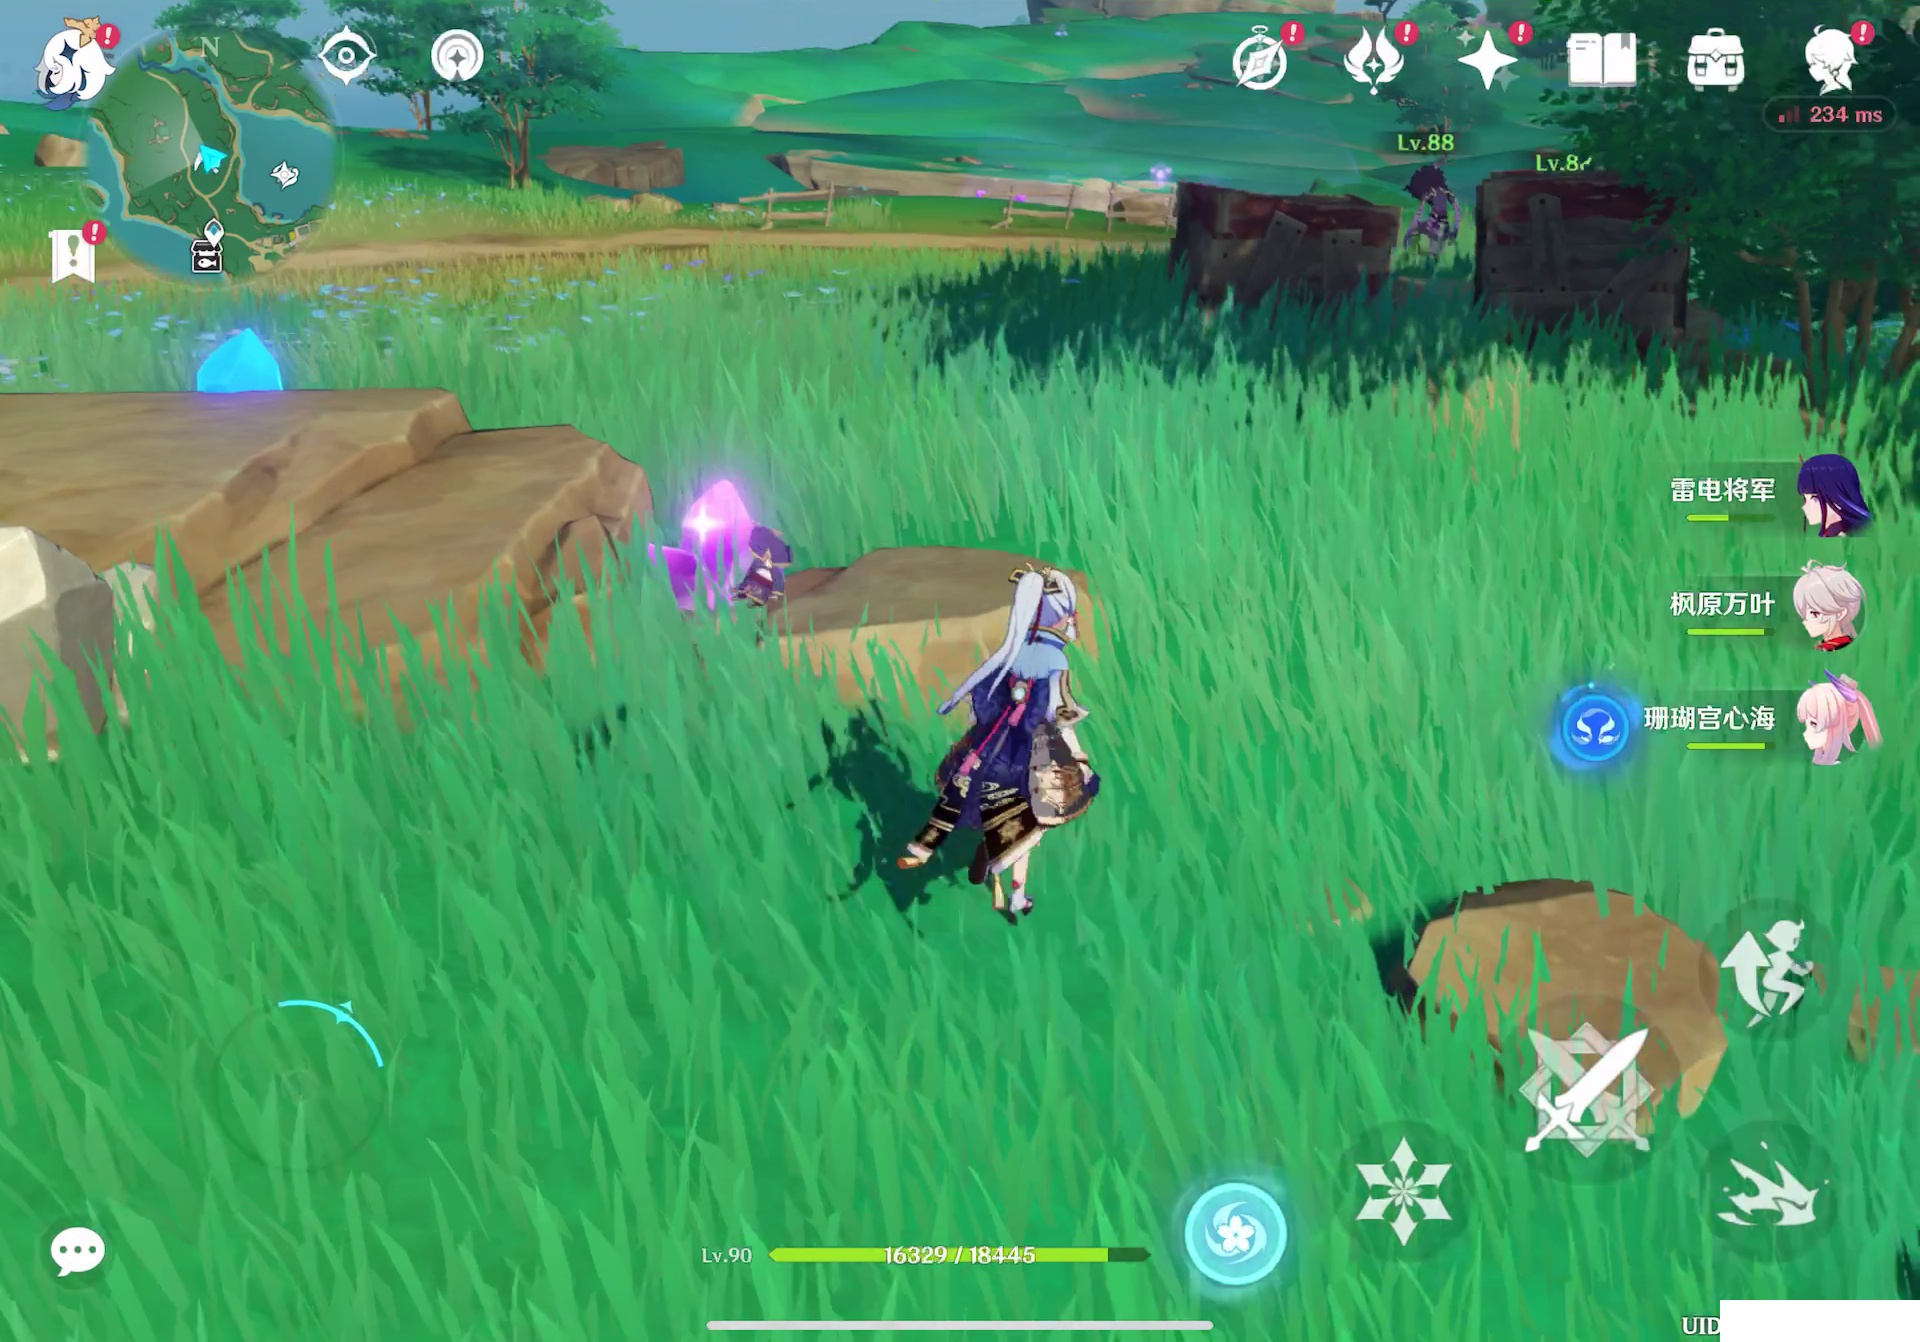丘丘人: (1406, 166, 1468, 268)
神里绫龟: (906, 543, 1137, 920)
紫矿石: (657, 476, 764, 616)
蓝矿石: (194, 319, 290, 400)
